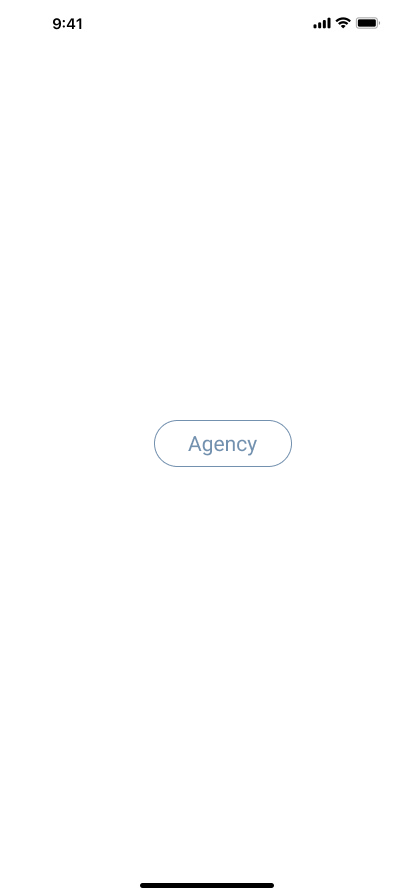Buttons: (154, 420, 300, 467)
Home Indicator: (0, 862, 414, 896)
Status Bar: (0, 0, 414, 44)
